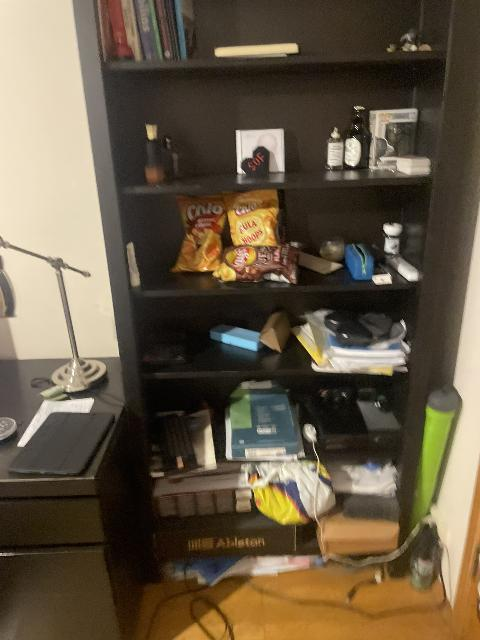Chio Cascaval 125g: (170, 193, 228, 275)
Chio Hula Hoops Cheese 70g: (224, 190, 281, 251)
Lays Beef Grilled Ribs 125g: (214, 244, 299, 284)
